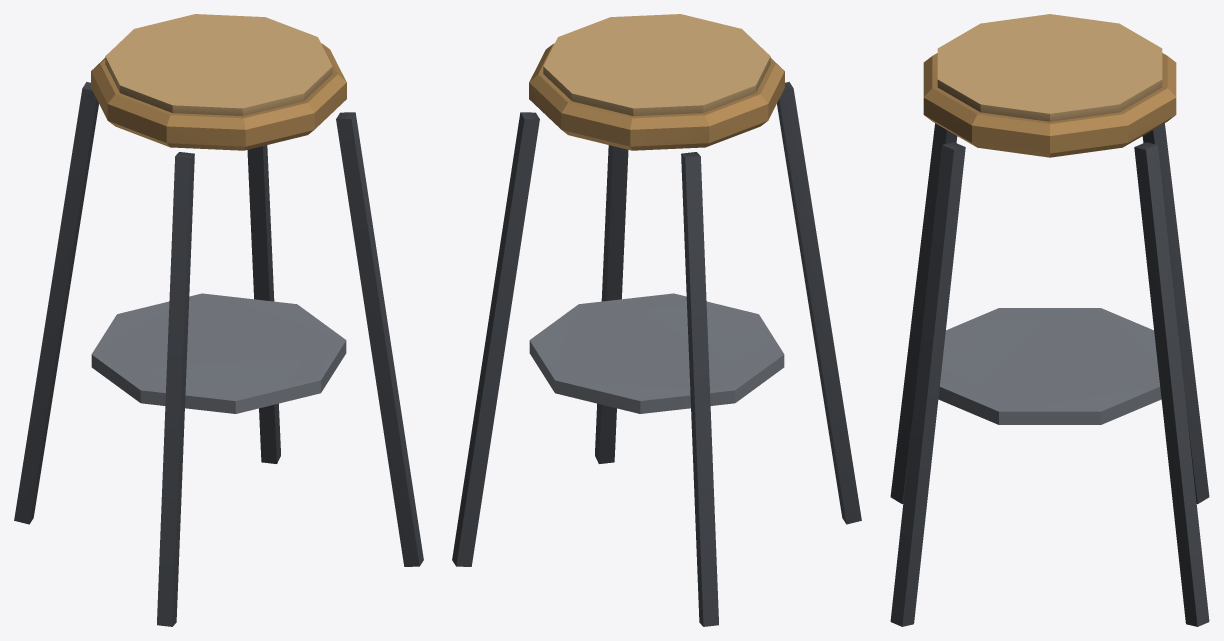
File: stool_cafe_01.glb
The picture shows the model from 3 angles, left to right: view 1: azimuth 30°, elevation 25°; view 2: azimuth 150°, elevation 25°; view 3: azimuth 270°, elevation 25°; orthographic projection. The views are drawn at different scales.
Parts seen in each view (by area): view 1: stool_cafe_01_mesh; view 2: stool_cafe_01_mesh; view 3: stool_cafe_01_mesh.
Part boxes in pixels (x1,y1,x2,y2): stool_cafe_01_mesh: (14,14,423,626); stool_cafe_01_mesh: (452,14,861,626); stool_cafe_01_mesh: (890,14,1209,626).
Size of the model in its own units: 0.4319 by 0.7436 by 0.4319.
1 material, 1 textured.
